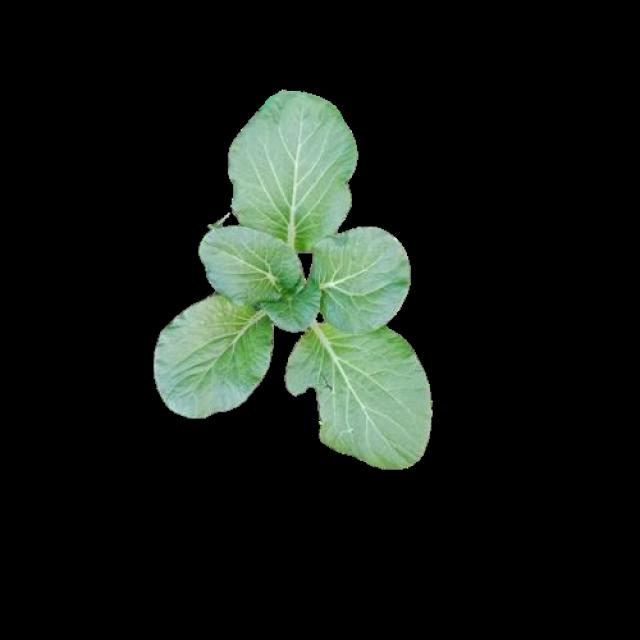not-mature: (152, 90, 430, 470)
unhealthy: (285, 338, 429, 470)
